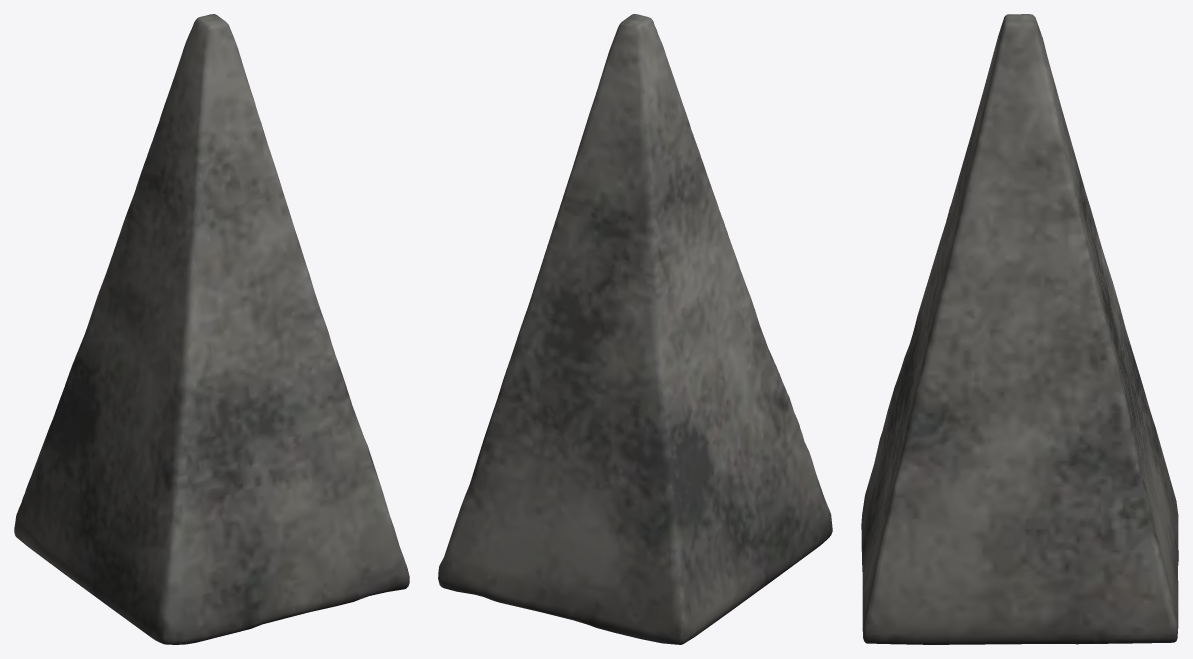
The model's file is simple-granite-obelisk-v001.glb.
3 renders of one model, left to right at view 1: azimuth 30°, elevation 25°; view 2: azimuth 150°, elevation 25°; view 3: azimuth 270°, elevation 25°, orthographic. The views are drawn at different scales.
Visible parts, largest first — view 1: simple-granite-obelisk; view 2: simple-granite-obelisk; view 3: simple-granite-obelisk.
Boxes of the visible parts, bbox=[...] form: simple-granite-obelisk: bbox=[14, 14, 409, 644]; simple-granite-obelisk: bbox=[438, 14, 832, 644]; simple-granite-obelisk: bbox=[861, 14, 1178, 644].
Size of the model in its own units: 0.7358 by 1.55 by 0.7828.
1 material, 1 textured.
